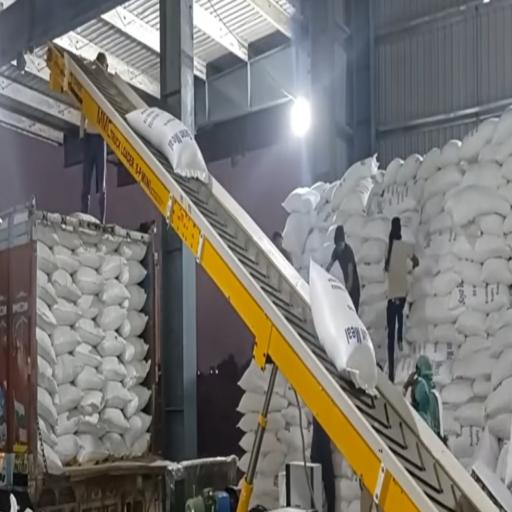c-belt: (48, 45, 488, 511)
other: (0, 0, 512, 177)
